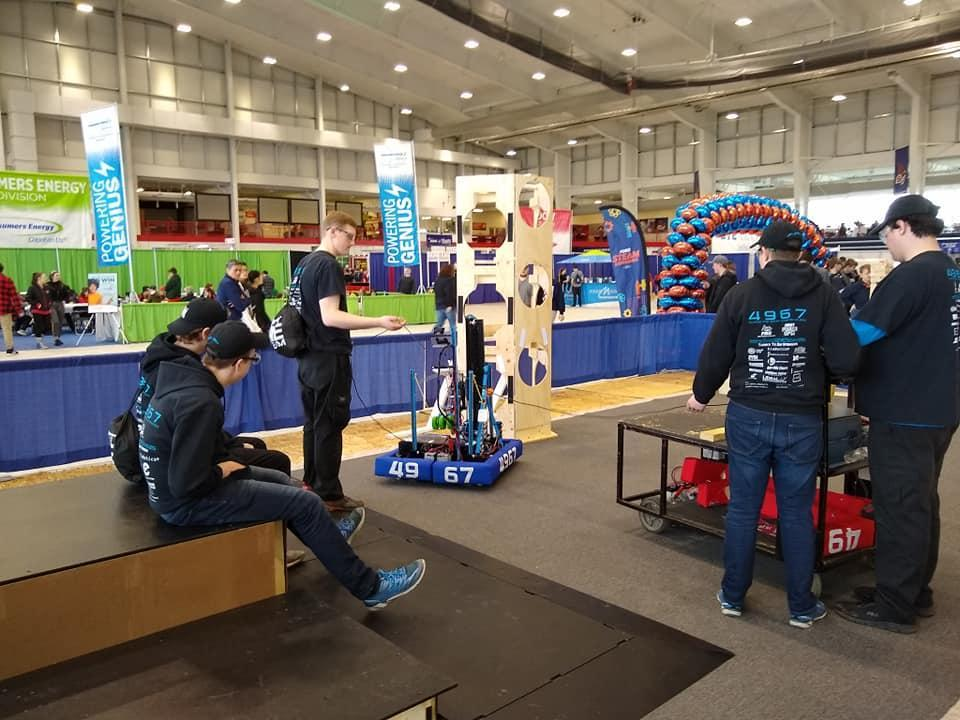robot: (369, 270, 525, 498)
